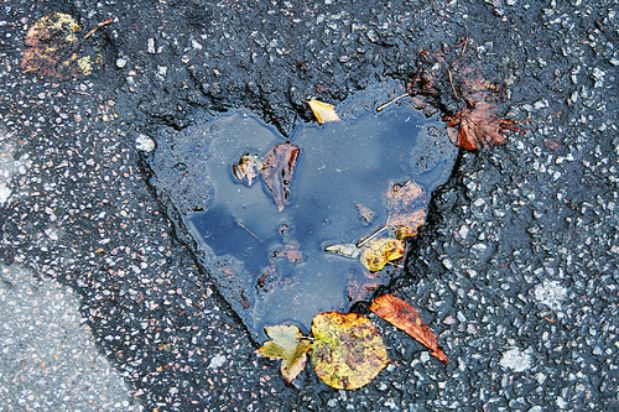pothole: (129, 65, 467, 375)
